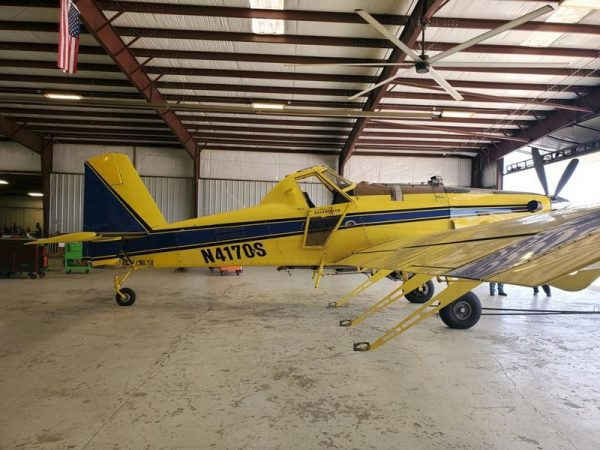Aeronef_de_service: (18, 147, 600, 356)
